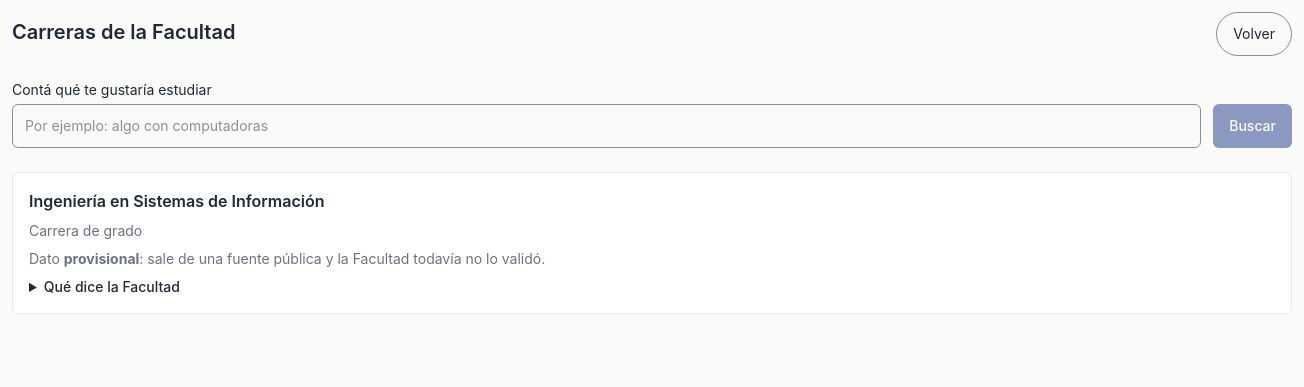
Scenario: Carreras › muestra cada carrera con su rótulo provisional y la fuente que respalda la descripción
Expected: the heading "Ingeniería en Sistemas de Información" is shown, [29,191,324,211]
Expected: the text "provisional" is shown, [64,250,139,267]
Click the heading "Qué dice la Facultad" at {"x": 112, "y": 286}, box [44,278,180,295]
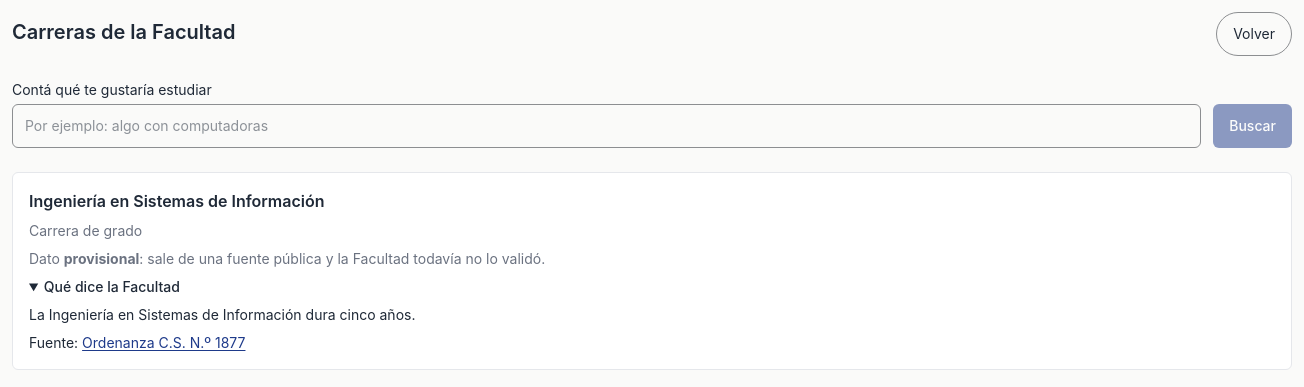
Now the text "La Ingeniería en Sistemas de Información dura cinco años." is shown, box [29,306,416,323]
